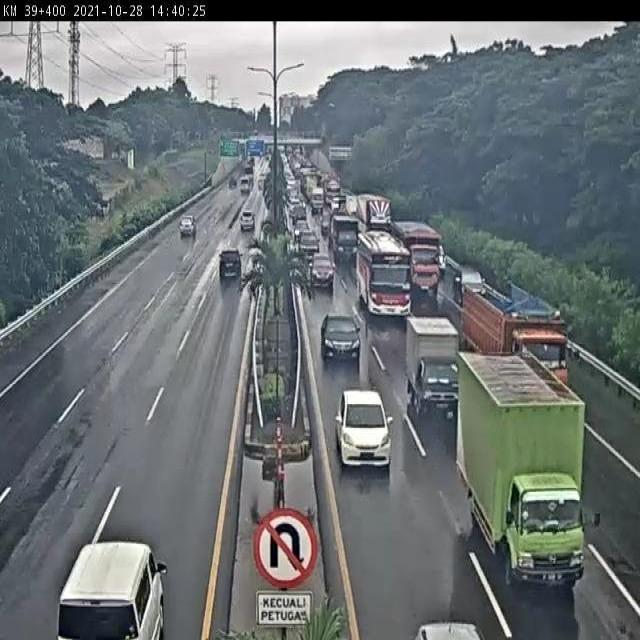bus-l-: (358, 225, 411, 315)
car: (56, 541, 165, 640), (336, 388, 393, 465), (320, 312, 362, 360), (453, 263, 488, 304), (217, 253, 244, 284), (310, 252, 336, 284), (297, 229, 320, 259), (175, 216, 196, 240), (236, 212, 255, 233)
truck-l-: (463, 282, 569, 394), (397, 218, 445, 294)
truck-m-: (456, 351, 587, 597), (332, 209, 361, 256)
truck-s-: (406, 315, 461, 416)
